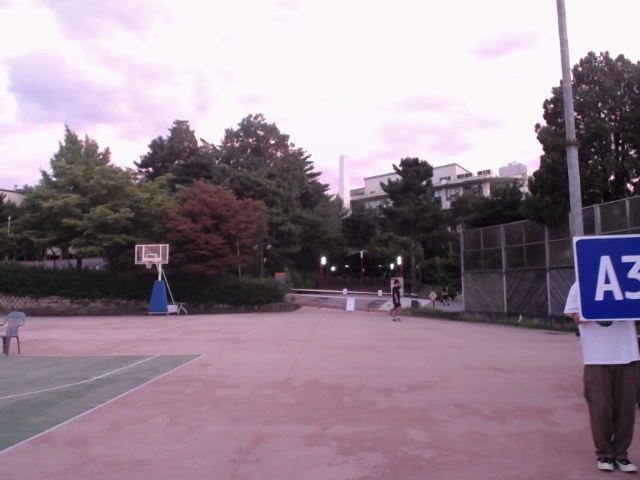delivery_a3: (573, 236, 639, 320)
